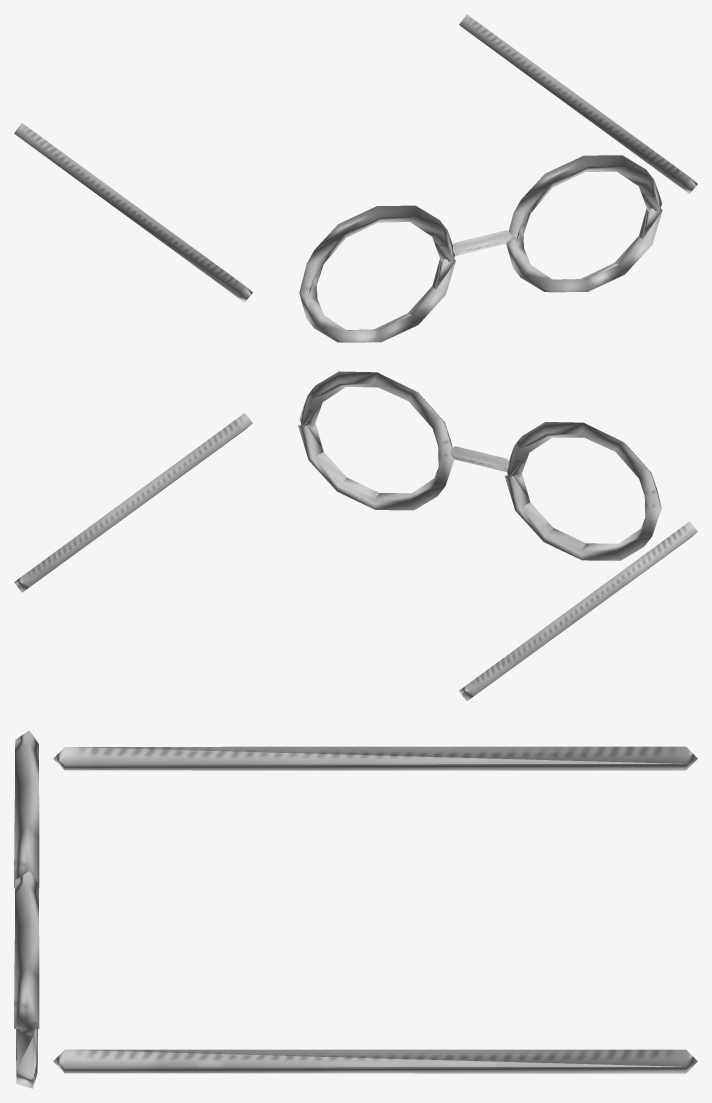
The model's file is Head_C2.fbx.
3 views of the same model, one above another, from view 1: azimuth 30°, elevation 25°; view 2: azimuth 150°, elevation 25°; view 3: azimuth 270°, elevation 25° (orthographic). The views are drawn at different scales.
Visible parts, largest first — view 1: Civ_PeladoBarba_Head_C2; view 2: Civ_PeladoBarba_Head_C2; view 3: Civ_PeladoBarba_Head_C2.
Part boxes in pixels (box(x1,y1,x2,y2)): Civ_PeladoBarba_Head_C2: box(14, 14, 697, 342); Civ_PeladoBarba_Head_C2: box(14, 371, 697, 700); Civ_PeladoBarba_Head_C2: box(14, 730, 697, 1088).
Size of the model in its own units: 1.28 by 0.3611 by 1.17.
